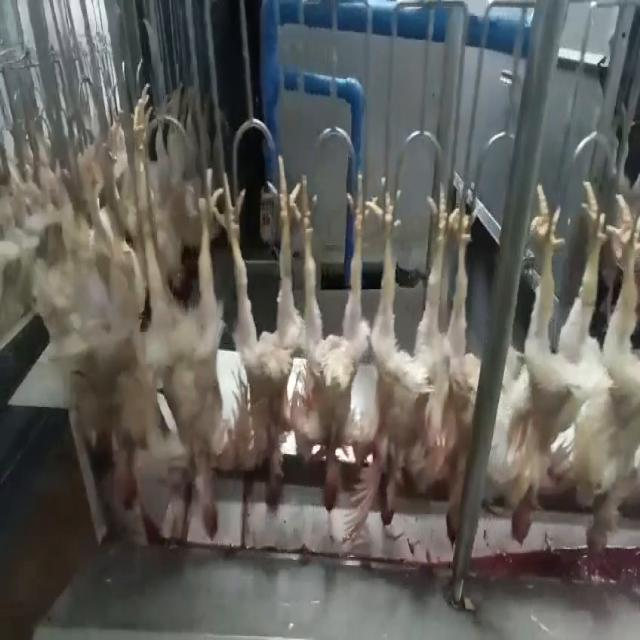chicken: (498, 182, 602, 546), (366, 175, 456, 527), (224, 151, 305, 512), (157, 154, 230, 541), (291, 169, 371, 514), (95, 154, 163, 517), (586, 195, 638, 558), (446, 179, 488, 558)
